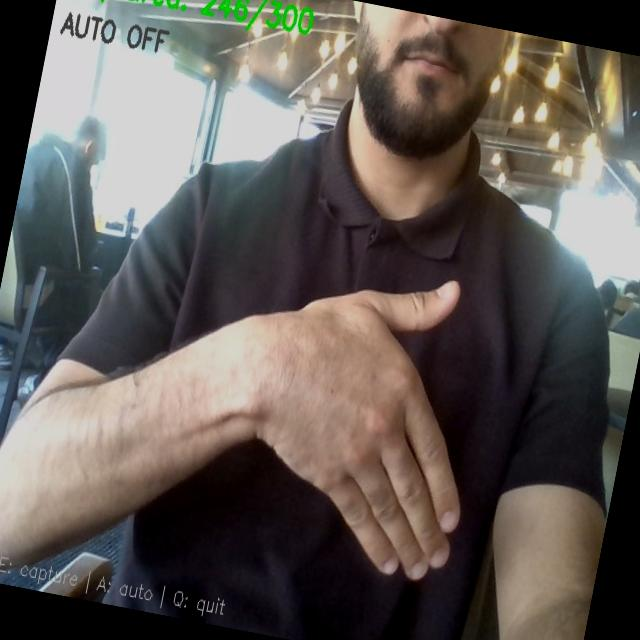Hand: (258, 282, 459, 578)
